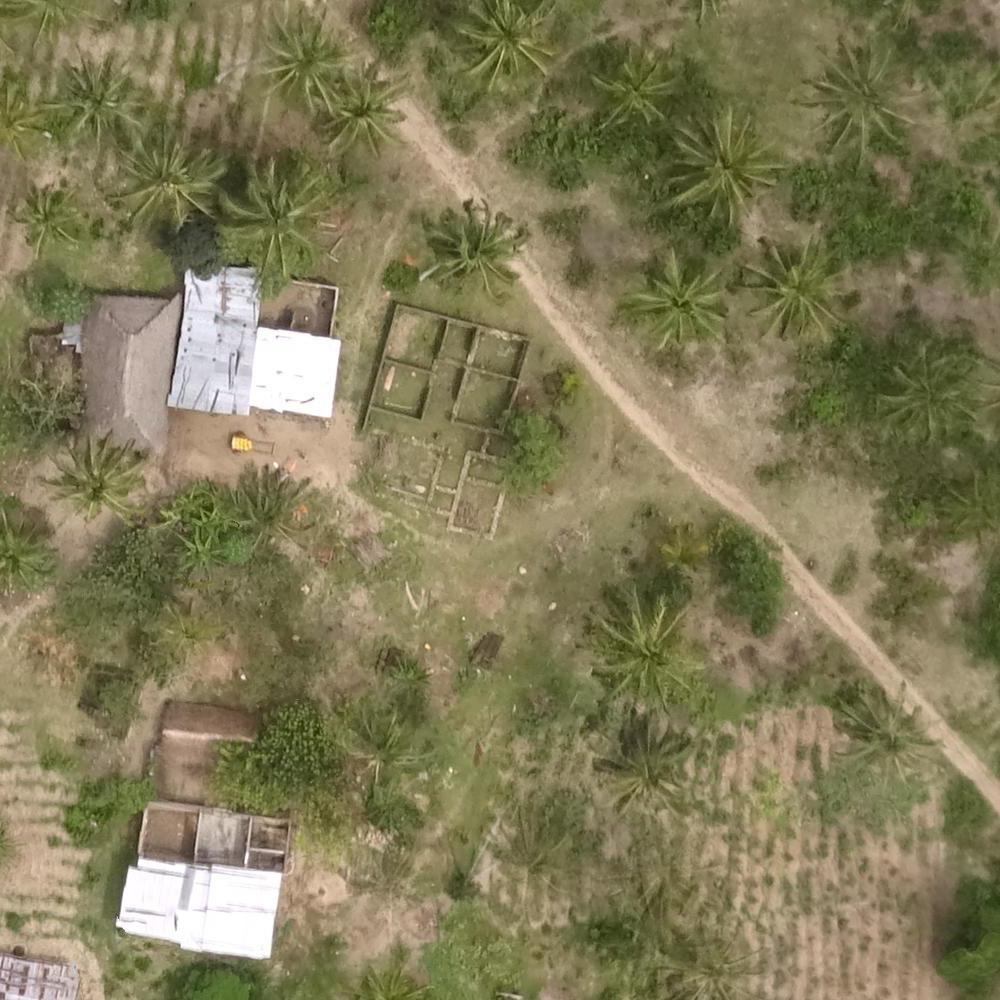Palm: (216, 161, 331, 275), (594, 588, 698, 701), (667, 110, 772, 218), (800, 42, 905, 150), (746, 234, 850, 333), (114, 127, 215, 228), (621, 250, 719, 347), (833, 685, 932, 779), (309, 64, 408, 154), (49, 435, 146, 525), (259, 14, 351, 107), (882, 345, 977, 435), (429, 195, 521, 286), (50, 51, 140, 143), (601, 718, 690, 811), (460, 2, 558, 83), (594, 47, 679, 125), (14, 180, 81, 251)
